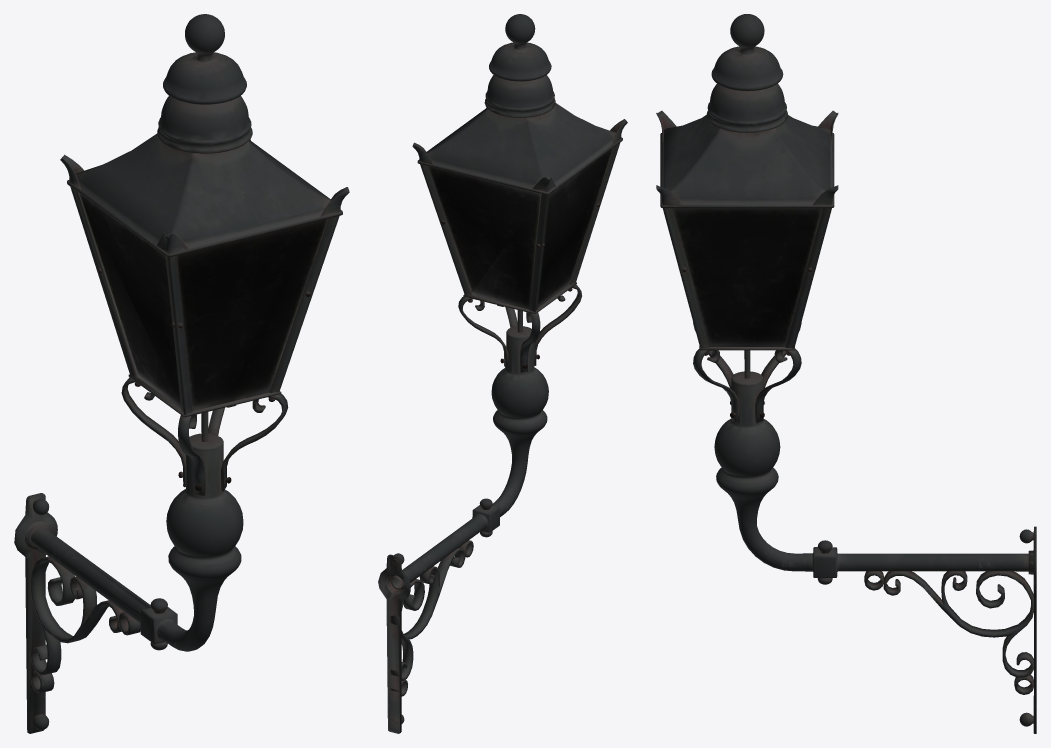
Rendered from p_lamp.glb.
3 views of the same model, side by side, from view 1: azimuth 30°, elevation 25°; view 2: azimuth 150°, elevation 25°; view 3: azimuth 270°, elevation 25° (orthographic). The views are drawn at different scales.
Visible parts, largest first — view 1: street_lamp_02; view 2: street_lamp_02; view 3: street_lamp_02.
Boxes of the visible parts, x1=… form: street_lamp_02: x1=14, y1=14, x2=349, y2=733; street_lamp_02: x1=378, y1=14, x2=627, y2=733; street_lamp_02: x1=656, y1=14, x2=1036, y2=733.
Bounding box in the file's own units: 0.3865 × 1.67 × 0.8068.
2 materials, 2 textured.
